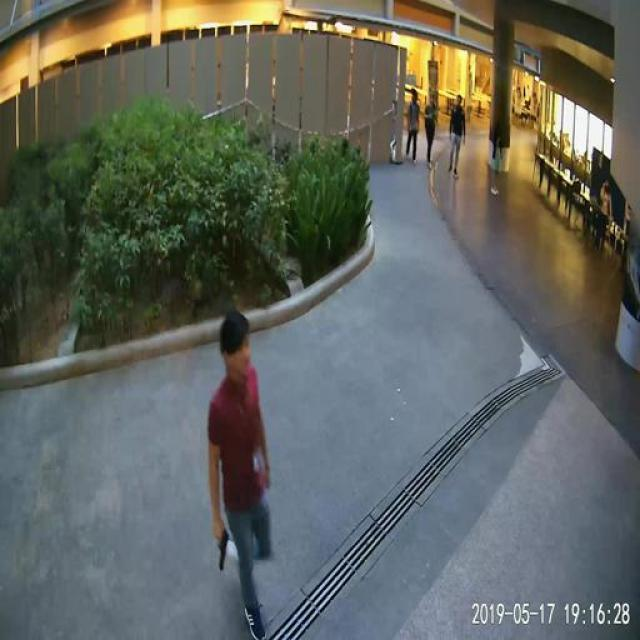Gun: (211, 521, 240, 580)
